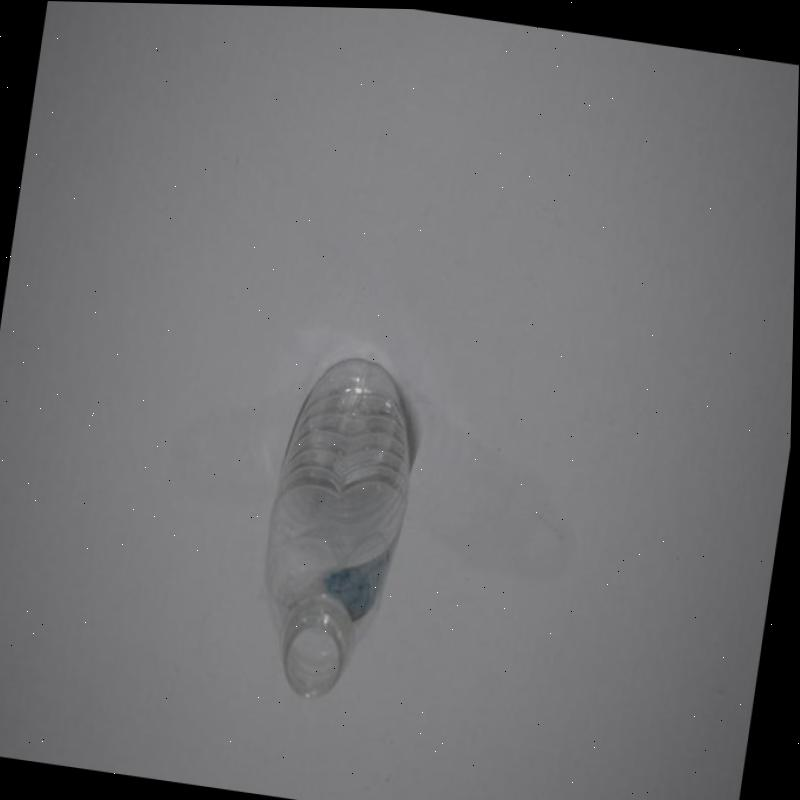botella: (244, 337, 428, 705)
